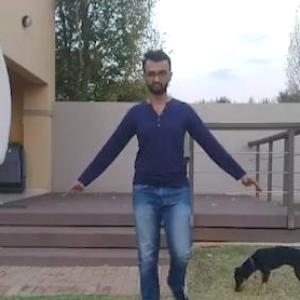land: (80, 64, 239, 299)
